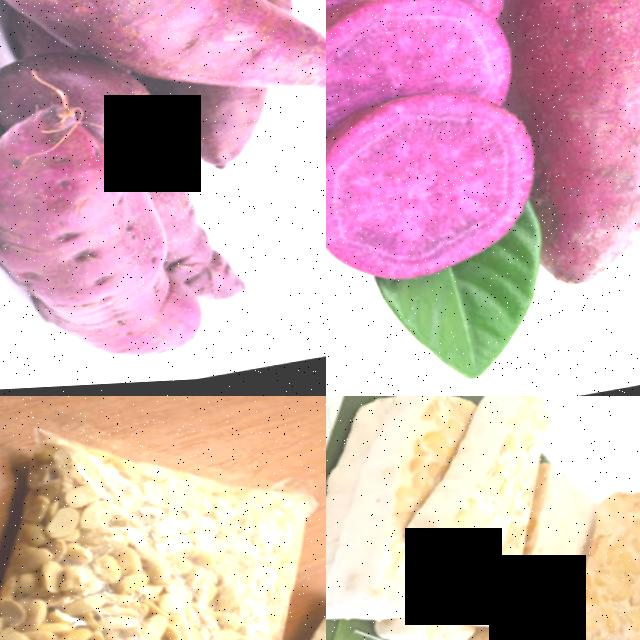sweet potato: (0, 88, 204, 387), (0, 0, 326, 160), (326, 83, 547, 293), (496, 0, 640, 291)
tempeh: (376, 396, 565, 582), (531, 481, 640, 640)
